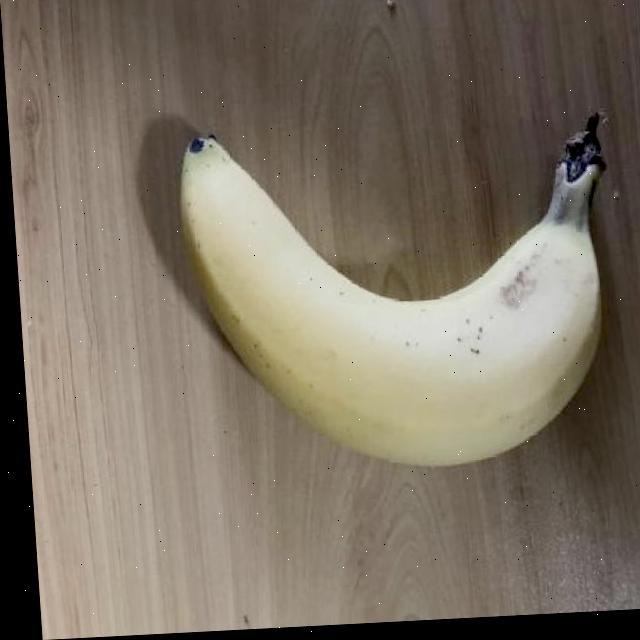banana: (163, 105, 633, 488)
